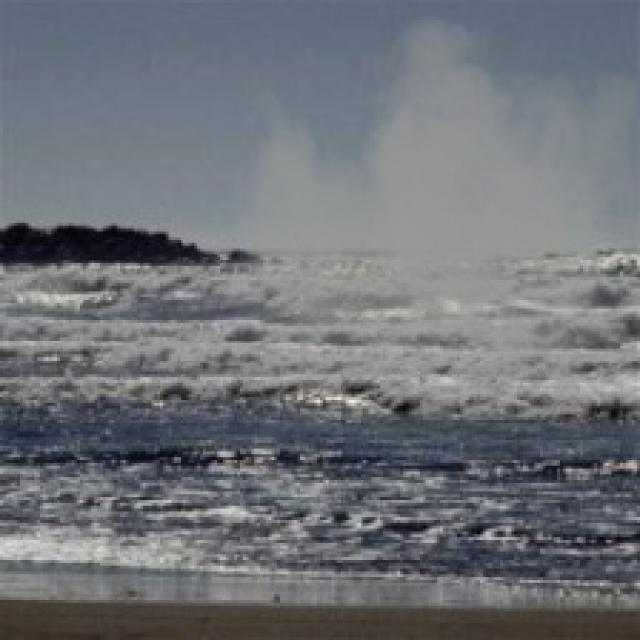smoke: (229, 0, 637, 423)
